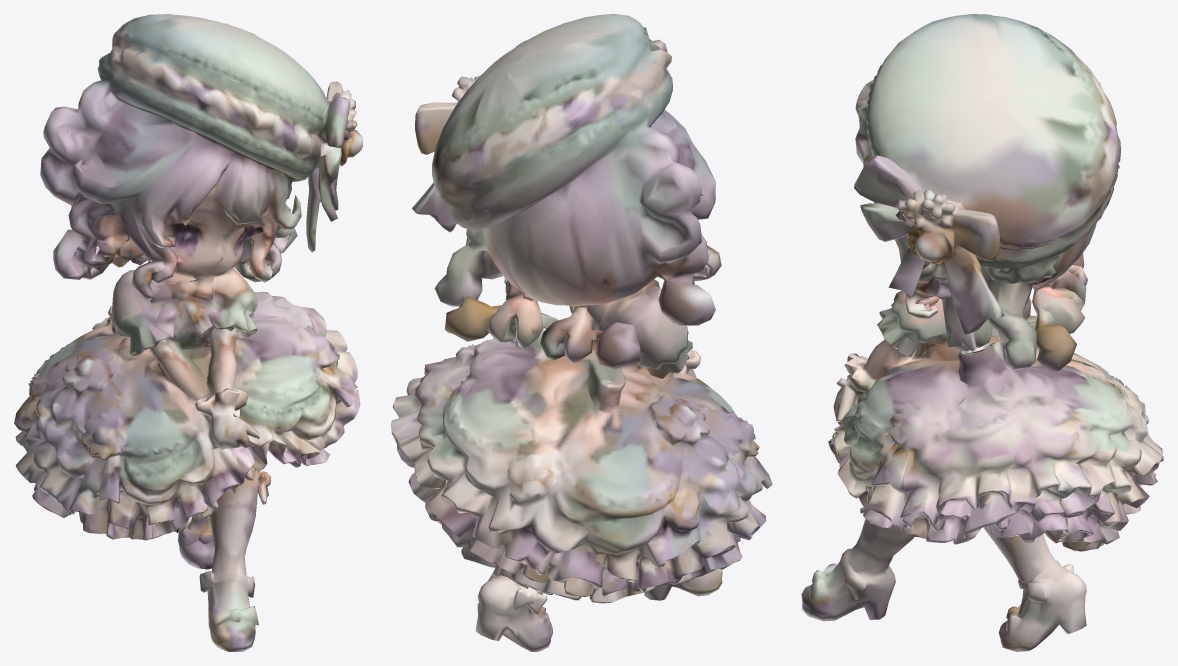
Rendered from macaron_painted.glb.
3 renders of one model, left to right at view 1: azimuth 30°, elevation 25°; view 2: azimuth 150°, elevation 25°; view 3: azimuth 270°, elevation 25°, orthographic. The views are drawn at different scales.
Parts seen in each view (by area): view 1: Body; view 2: Body; view 3: Body.
Part boxes in pixels (bbox=[...]): Body: bbox=[14, 14, 362, 651]; Body: bbox=[391, 14, 772, 651]; Body: bbox=[801, 14, 1163, 651].
Size of the model in its own units: 0.5735 by 1 by 0.5482.
1 material, 1 textured.
